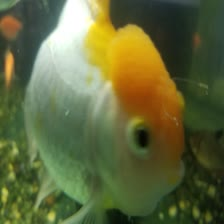Cuezo: (4, 0, 193, 215)
